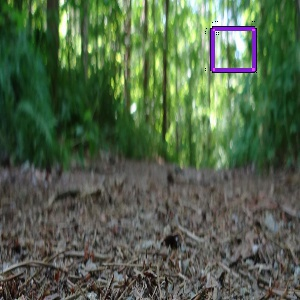square: (206, 21, 262, 76)
